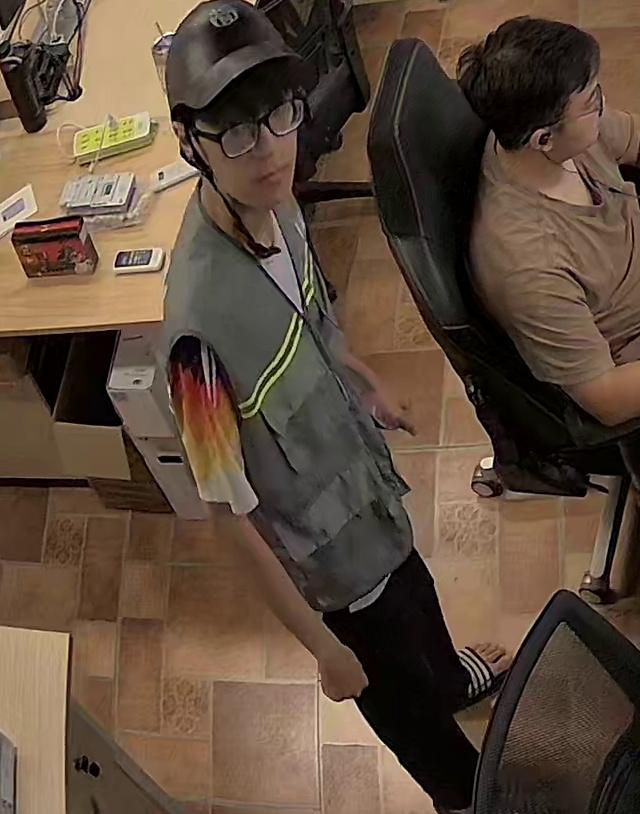helmet: (163, 0, 311, 110)
no_helmet: (453, 12, 603, 154)
none: (471, 118, 640, 388)
vest: (163, 196, 412, 604)
